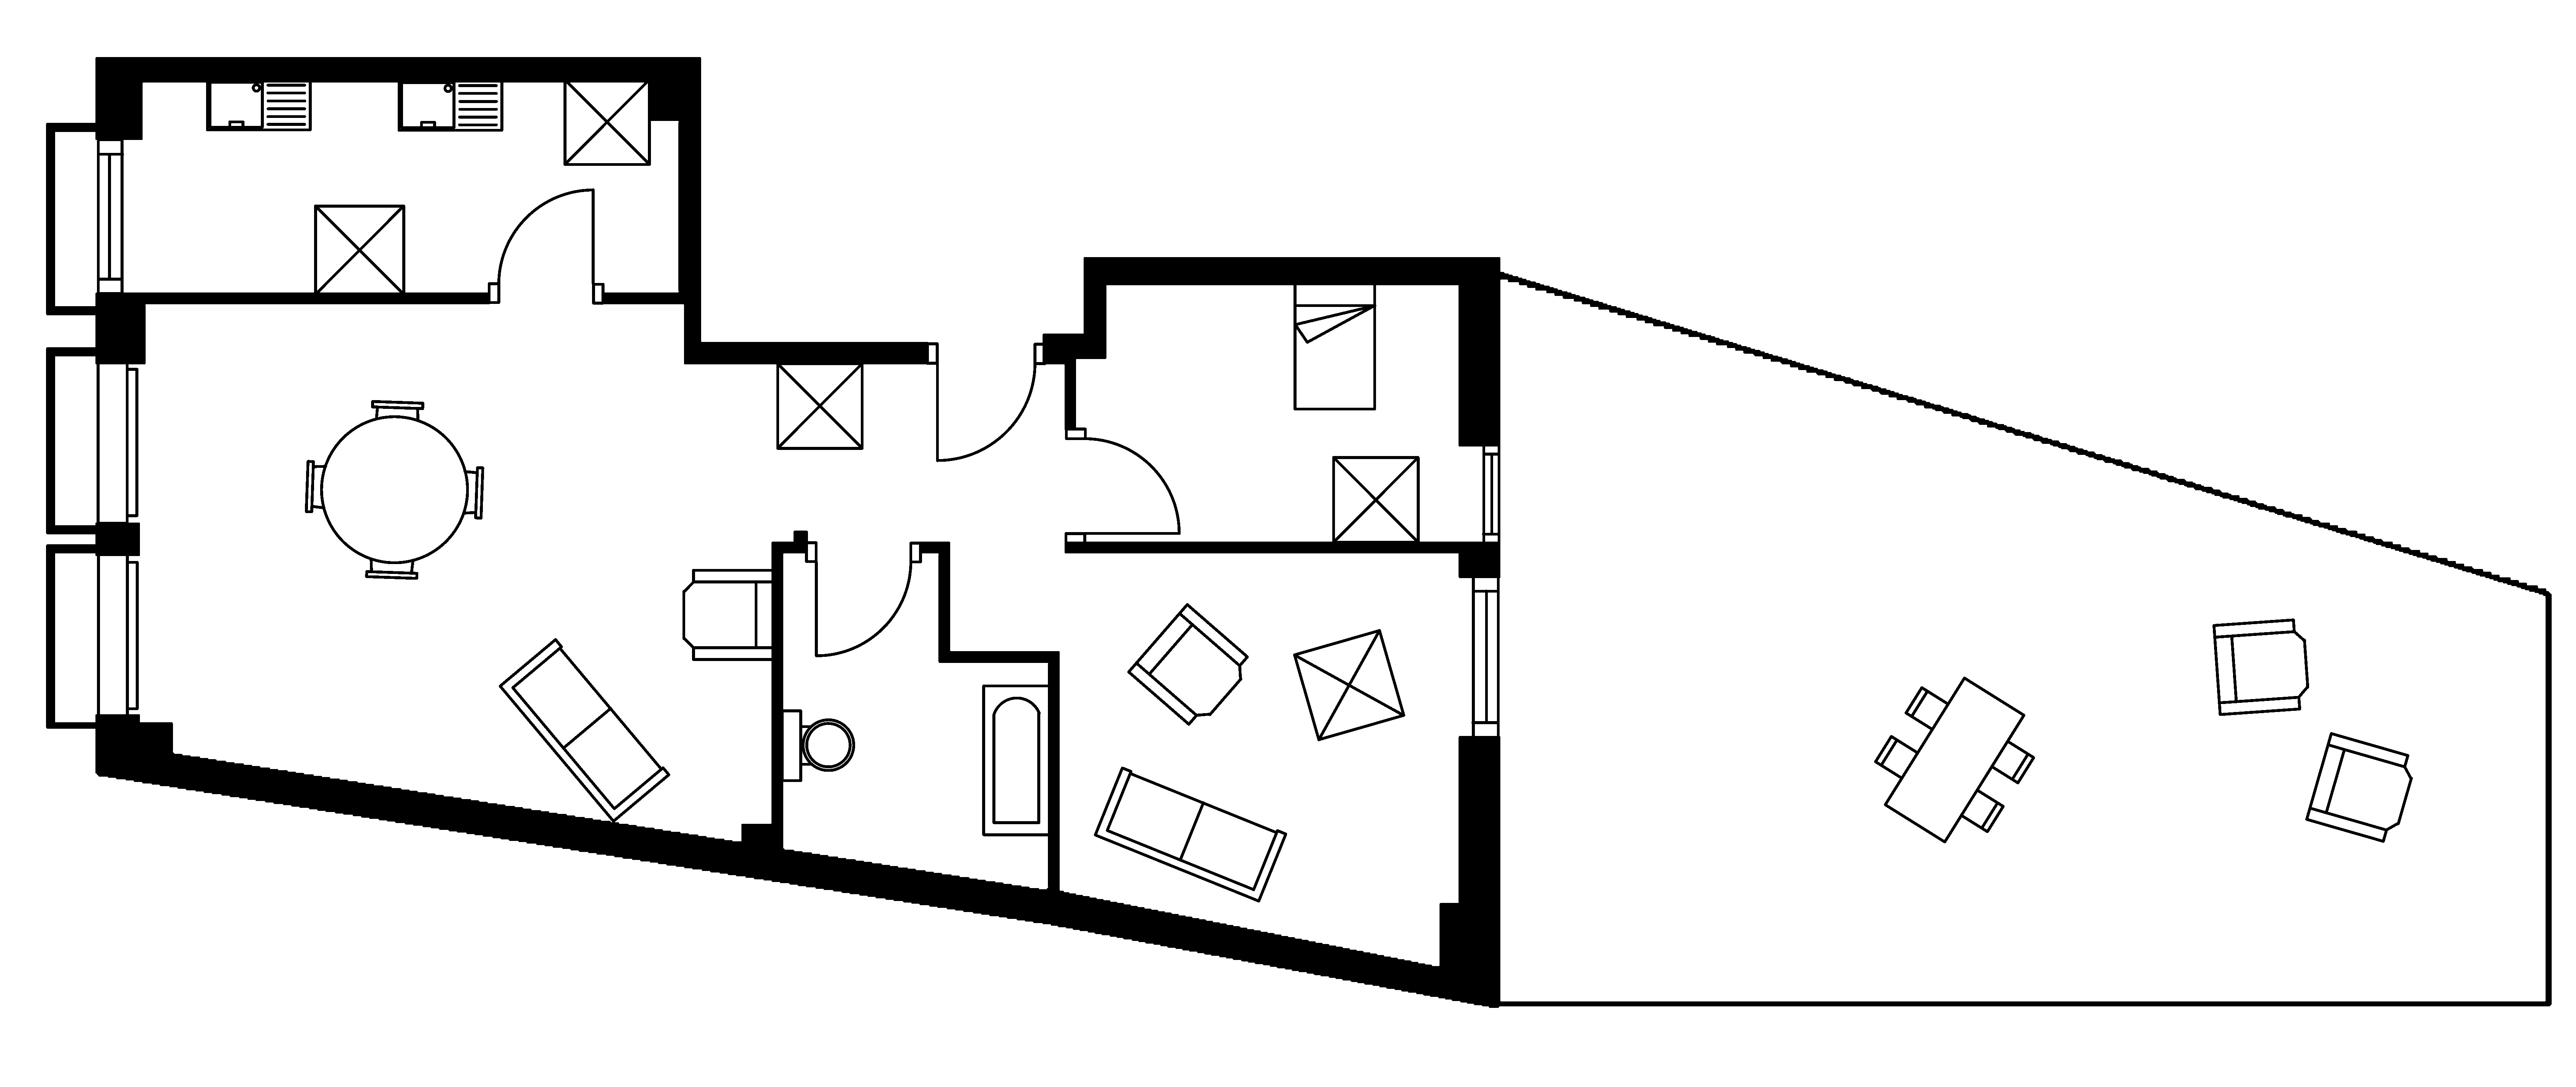armchair: (1127, 602, 1249, 727), (2305, 732, 2413, 844), (2211, 618, 2310, 717), (682, 567, 774, 661)
bed: (1293, 281, 1377, 411)
coffee_table: (1293, 628, 1405, 742), (314, 204, 406, 296), (562, 77, 651, 166), (775, 362, 864, 451), (1331, 456, 1419, 544)
dining_table: (1873, 676, 2035, 844)
large_sink: (780, 709, 854, 783)
large_sofa: (498, 638, 670, 822), (1092, 766, 1288, 903)
round_table: (304, 400, 485, 581)
sink: (396, 77, 503, 132), (205, 77, 312, 132)
tub: (981, 684, 1051, 837)
